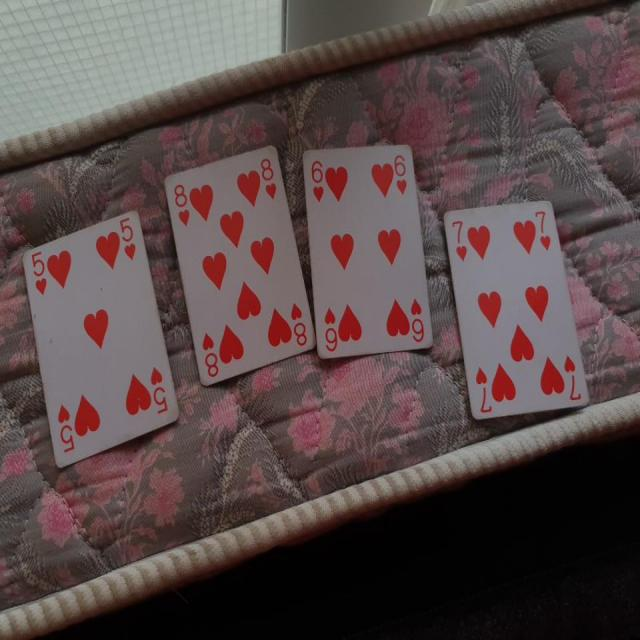5 Hearts: (12, 209, 185, 476)
6 Hearts: (302, 143, 436, 366)
7 Hearts: (442, 193, 597, 425)
8 Hearts: (161, 140, 315, 392)
